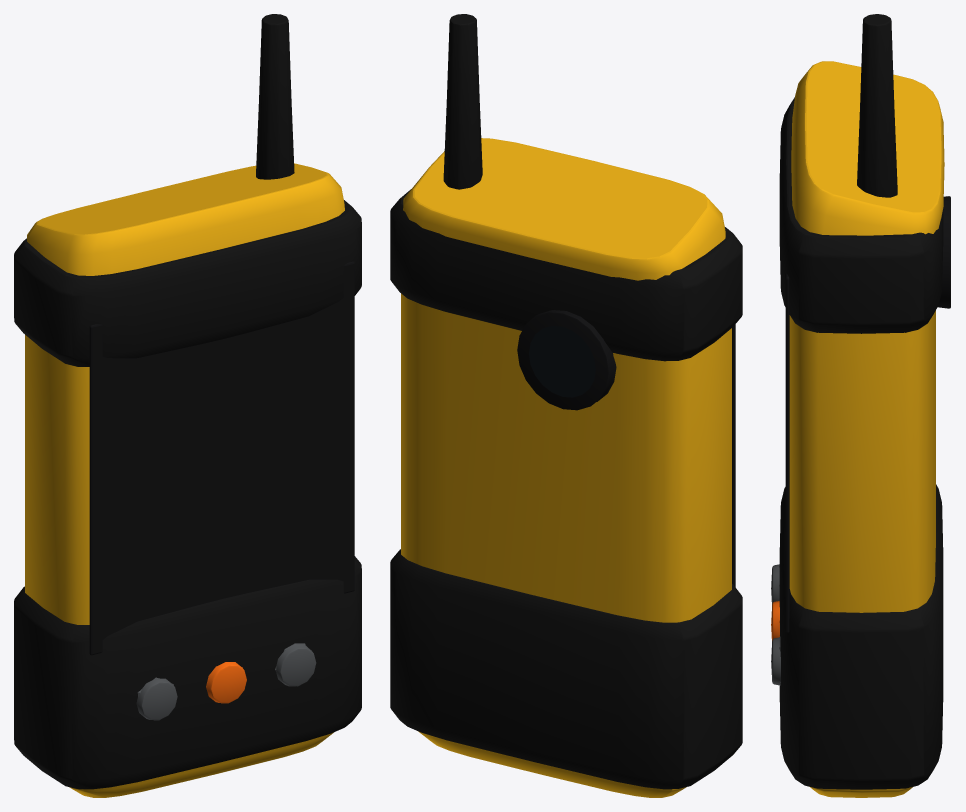
Rendered from survey_scanner.glb.
The picture shows the model from 3 angles, left to right: view 1: azimuth 30°, elevation 25°; view 2: azimuth 150°, elevation 25°; view 3: azimuth 270°, elevation 25°; orthographic projection. The views are drawn at different scales.
Parts seen in each view (by area): view 1: survey_scanner; view 2: survey_scanner; view 3: survey_scanner.
Part boxes in pixels (box(x1,y1,x2,y2)): survey_scanner: box(14, 14, 361, 797); survey_scanner: box(390, 14, 742, 797); survey_scanner: box(771, 14, 950, 797).
Bounding box in the file's own units: 0.0976 × 0.215 × 0.046.
